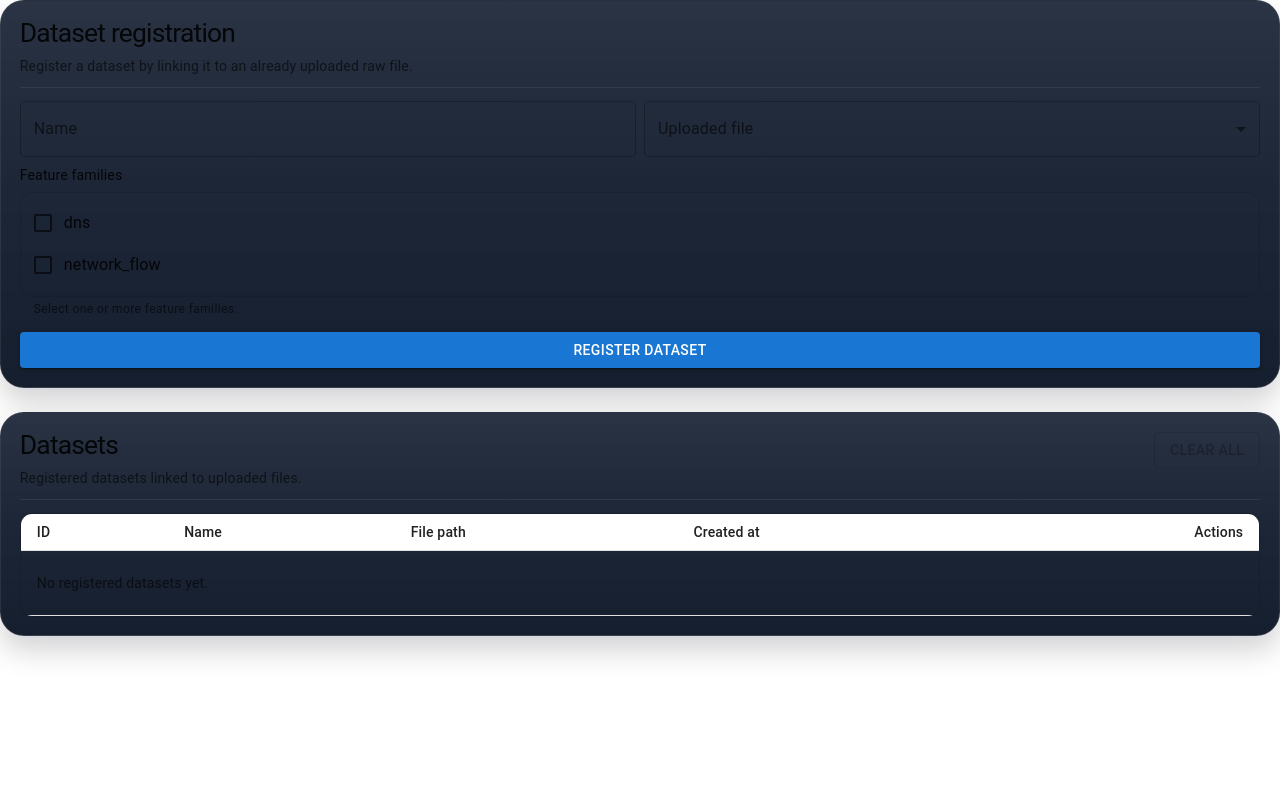
Test: DataManagementPage › autofills the dataset name, renders feature checkboxes, and submits the registry record
Press the mouse on the dropdown named "Uploaded file" at (952, 128), box 644,100 -> 1260,156
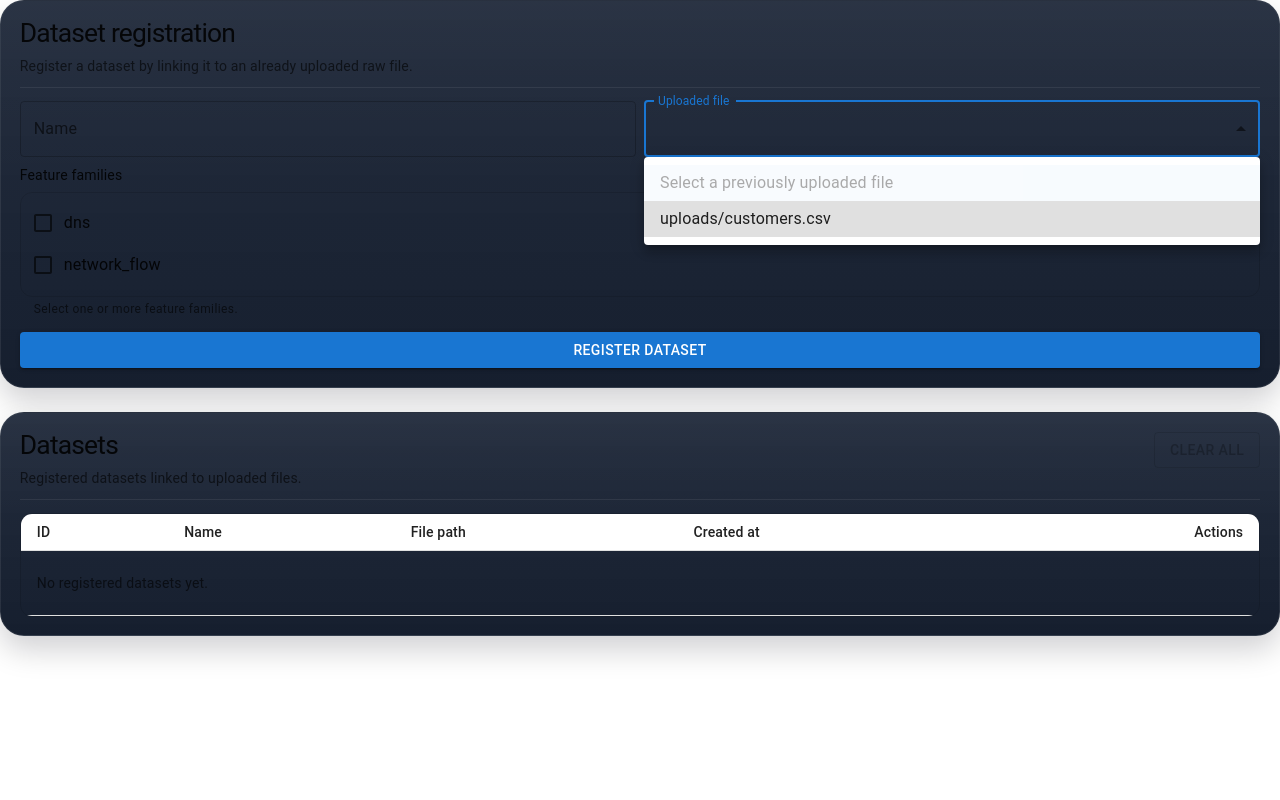
Click the option "uploads/customers.csv" at (746, 218), box 644,201 -> 1260,237
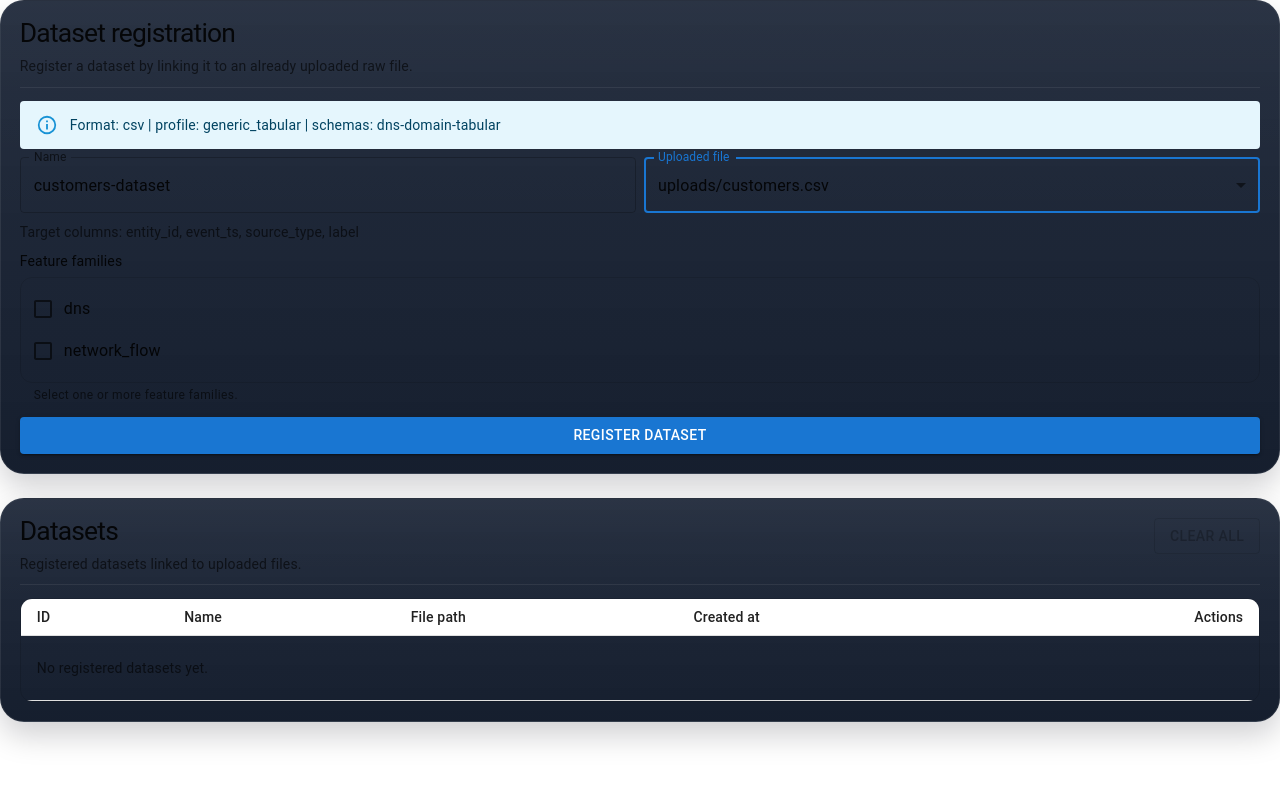
Expected: the field showing "customers-dataset" is shown, 20,157 -> 636,213
Click the checkbox labelled "dns" at (43, 309), box 31,297 -> 90,321
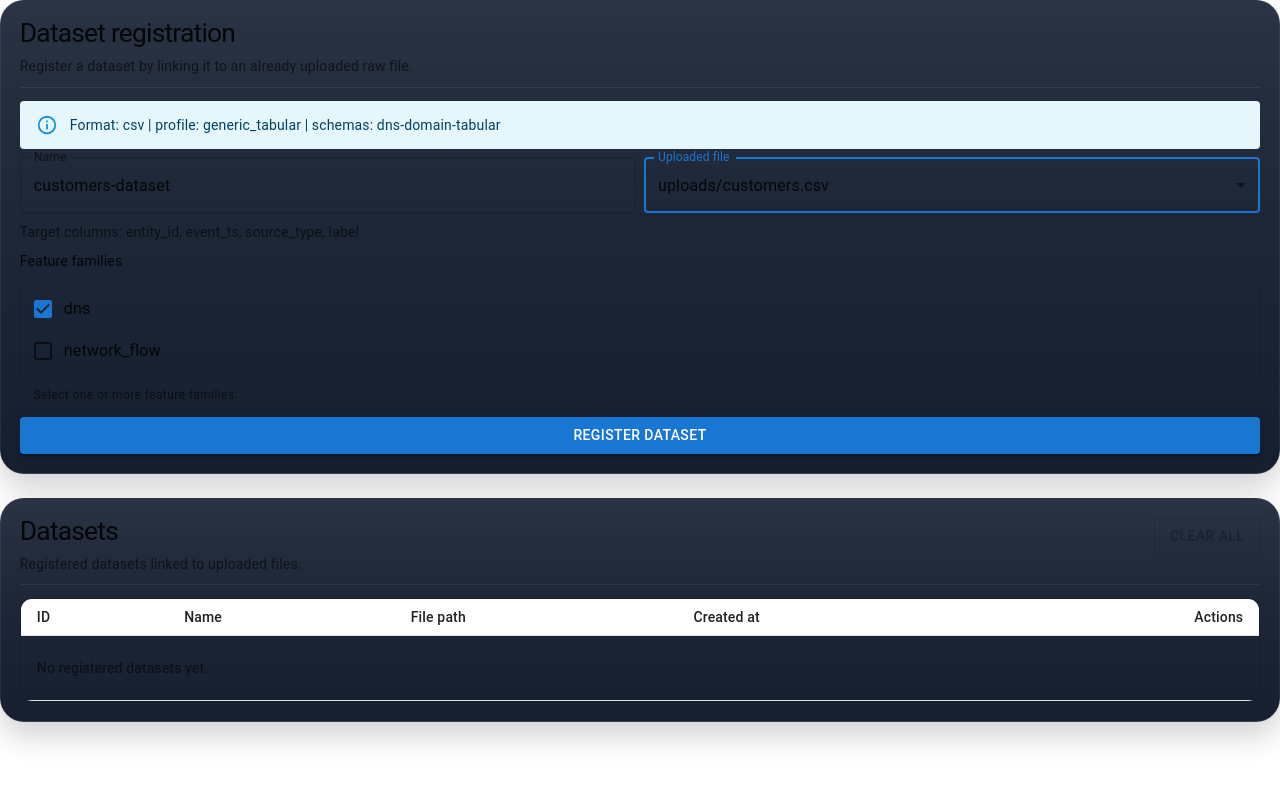
Click the checkbox labelled "network_flow" at (96, 351), box 31,339 -> 161,363
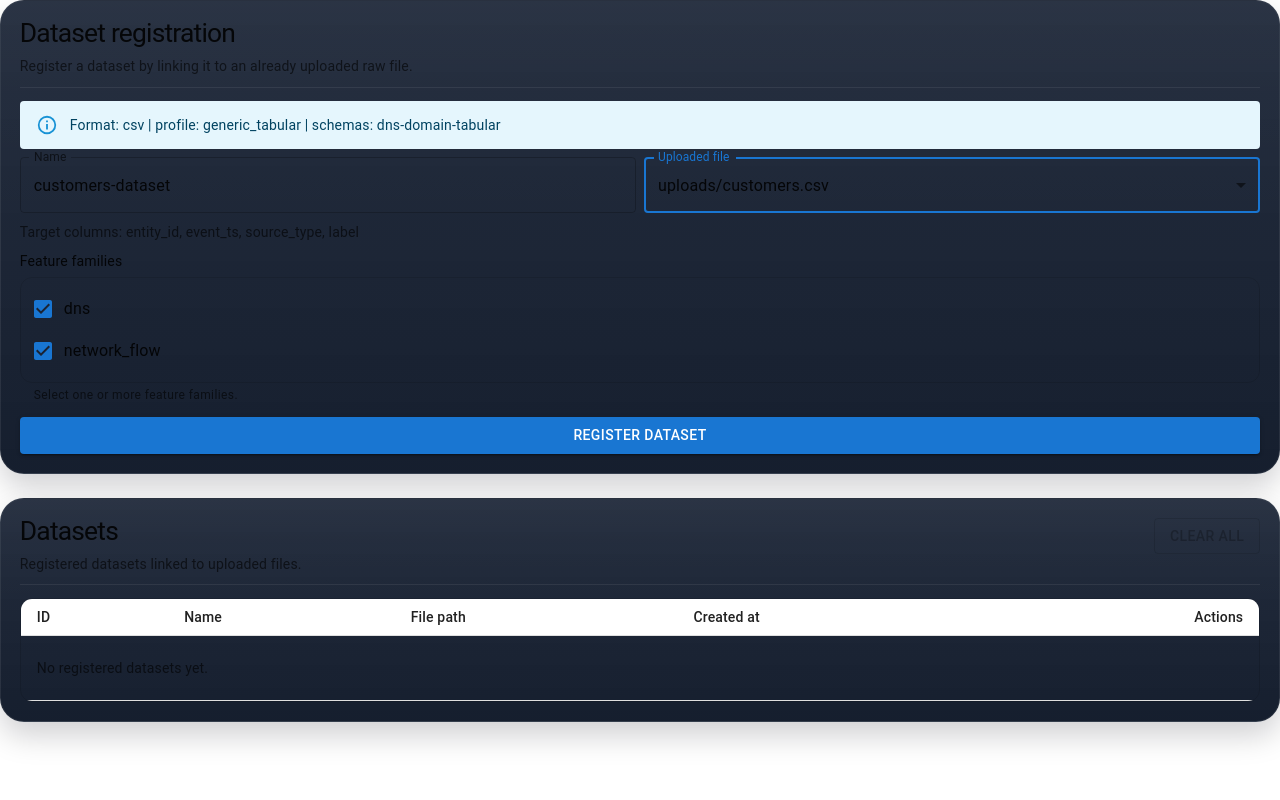
Click the button "Register dataset" at (640, 436), box 20,417 -> 1260,454
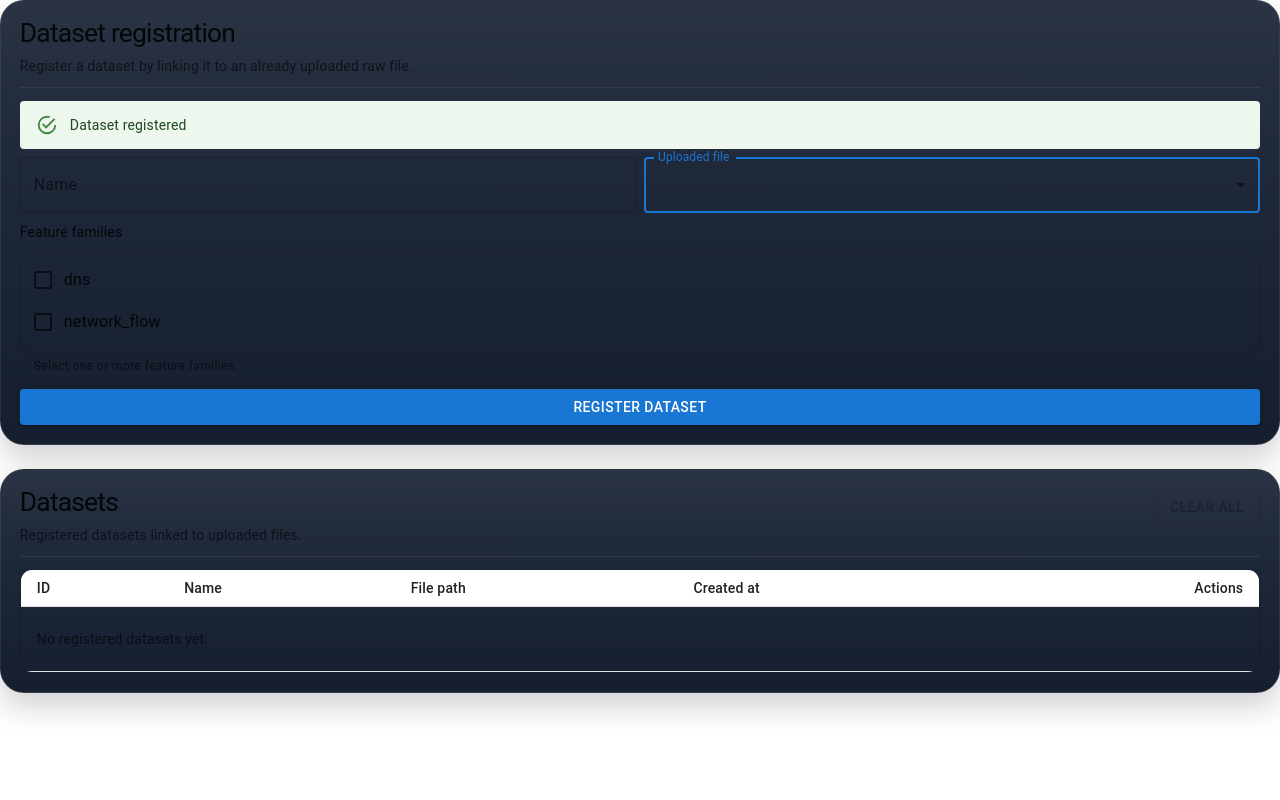
Expected: the text "Dataset registered" is shown, 70,116 -> 187,132
